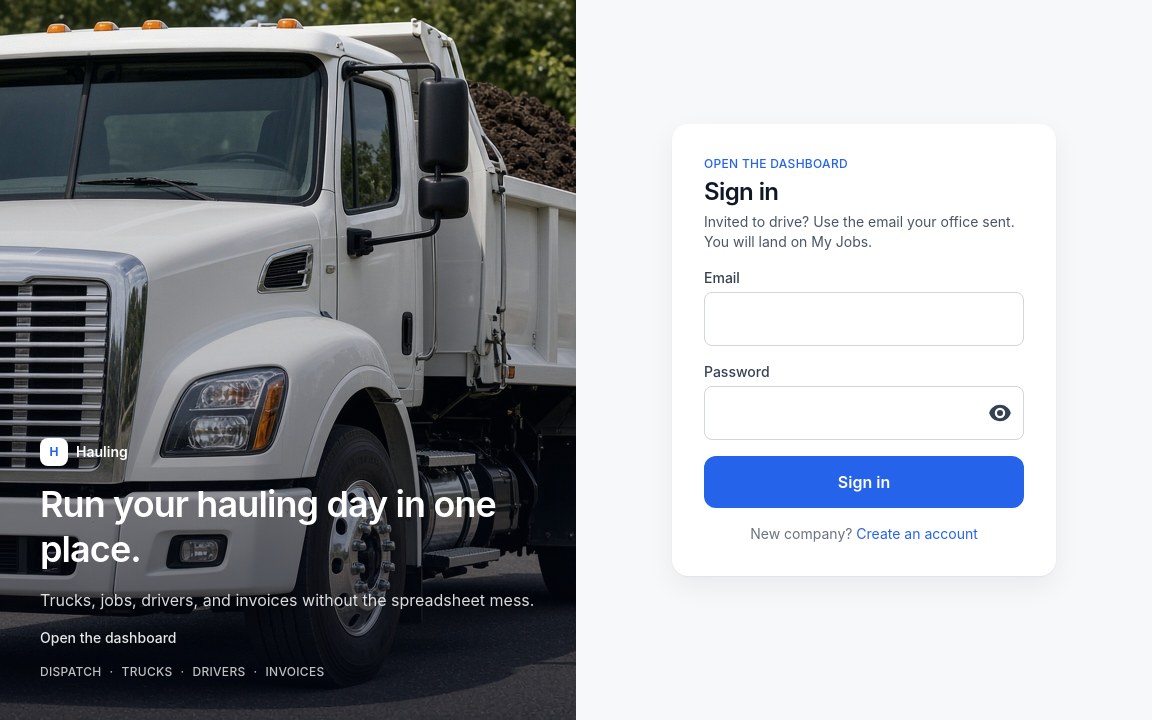
Test case: LoginPage active membership gate › does not sign the user out or claim they are inactive when membership loading fails
Type "sheajudson84@gmail.com" into the field labelled "Email" at (864, 319), box [704,292,1024,346]
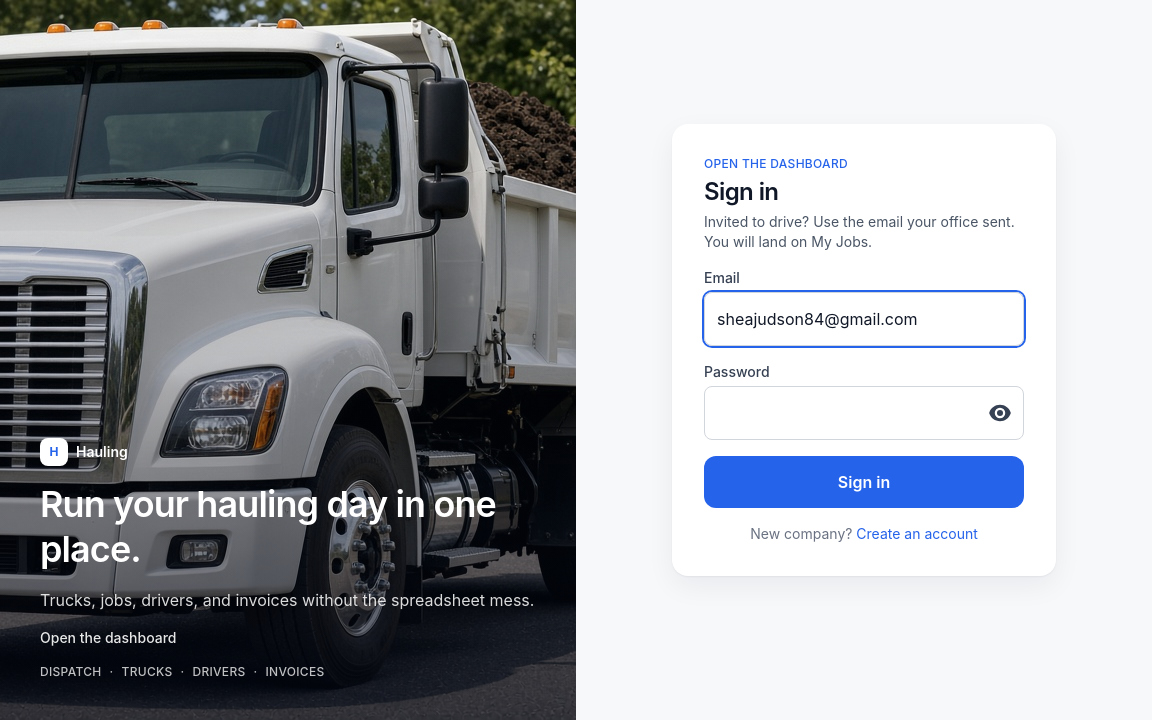
Type "secret12" into the password field labelled "Password" at (864, 413), box [704,386,1024,440]
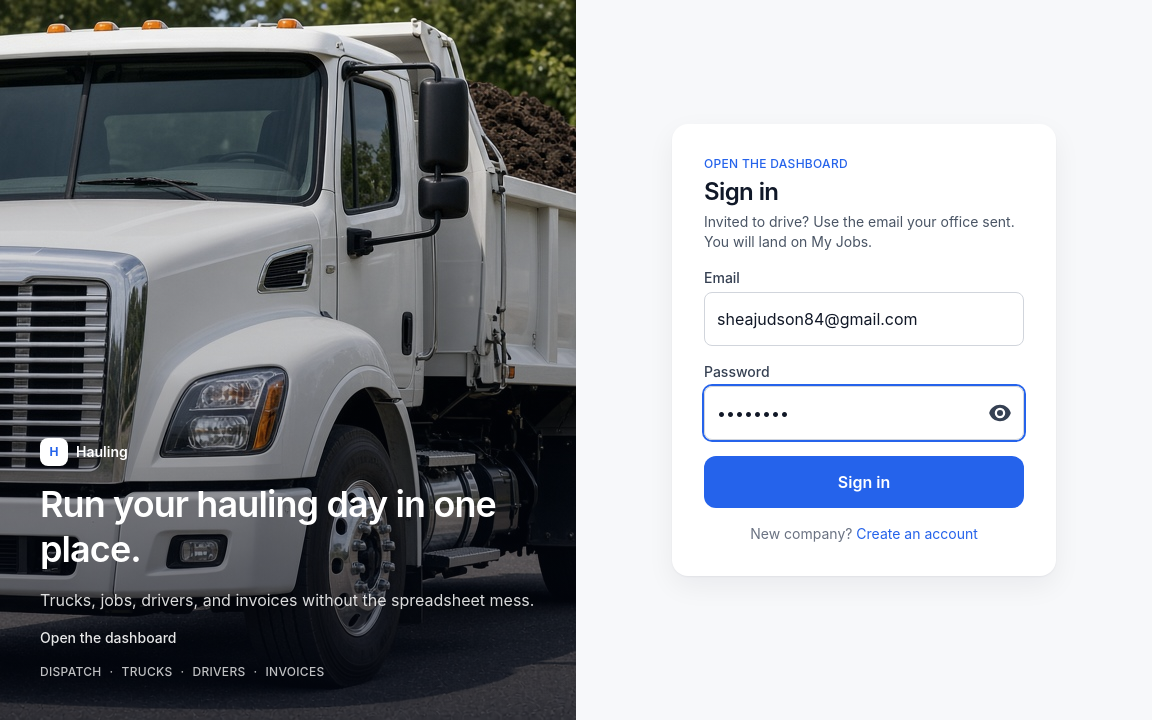
Click the button "Sign in" at (864, 482), box [704,456,1024,508]
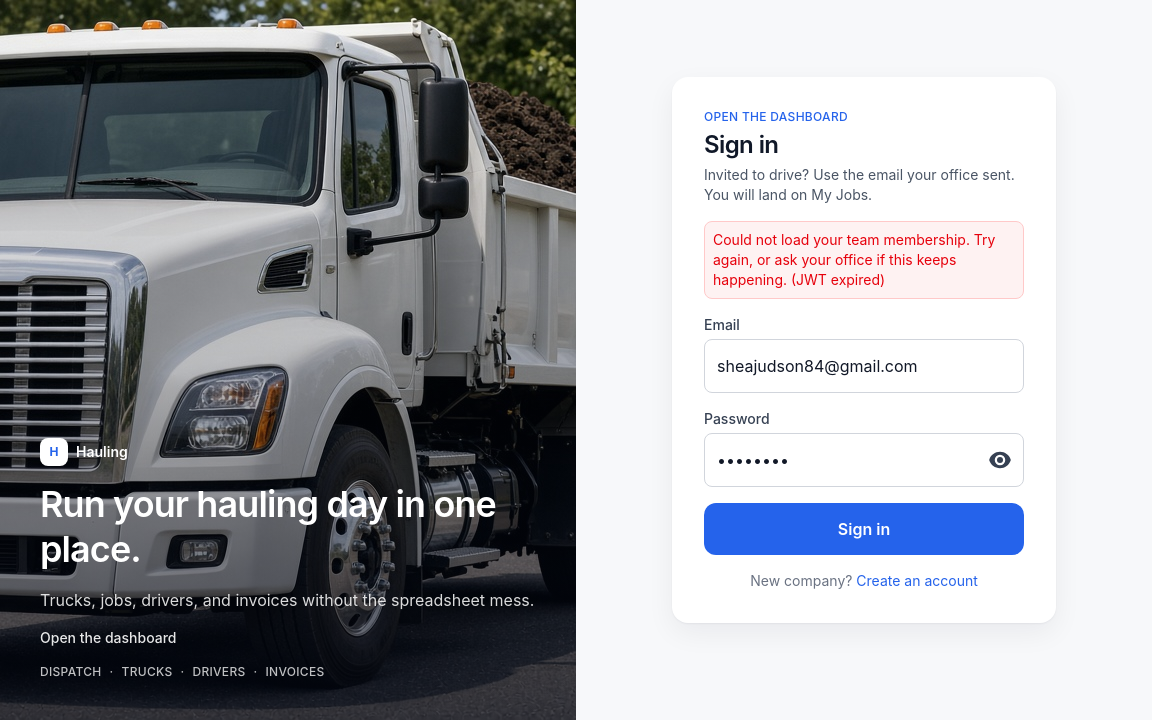
Expected: the text "JWT expired" is shown, [713,231,996,288]
